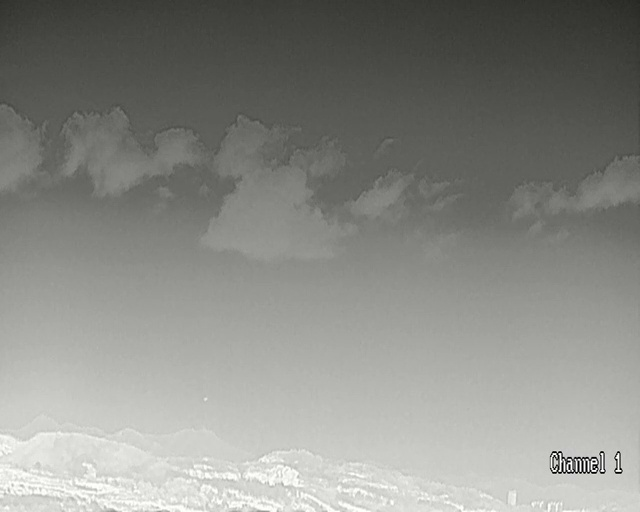uav: (203, 397, 207, 400)
